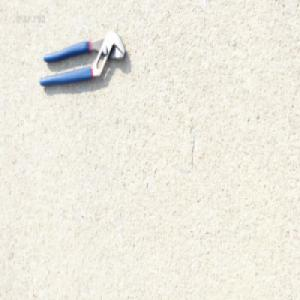Pliers: (37, 30, 126, 88)
